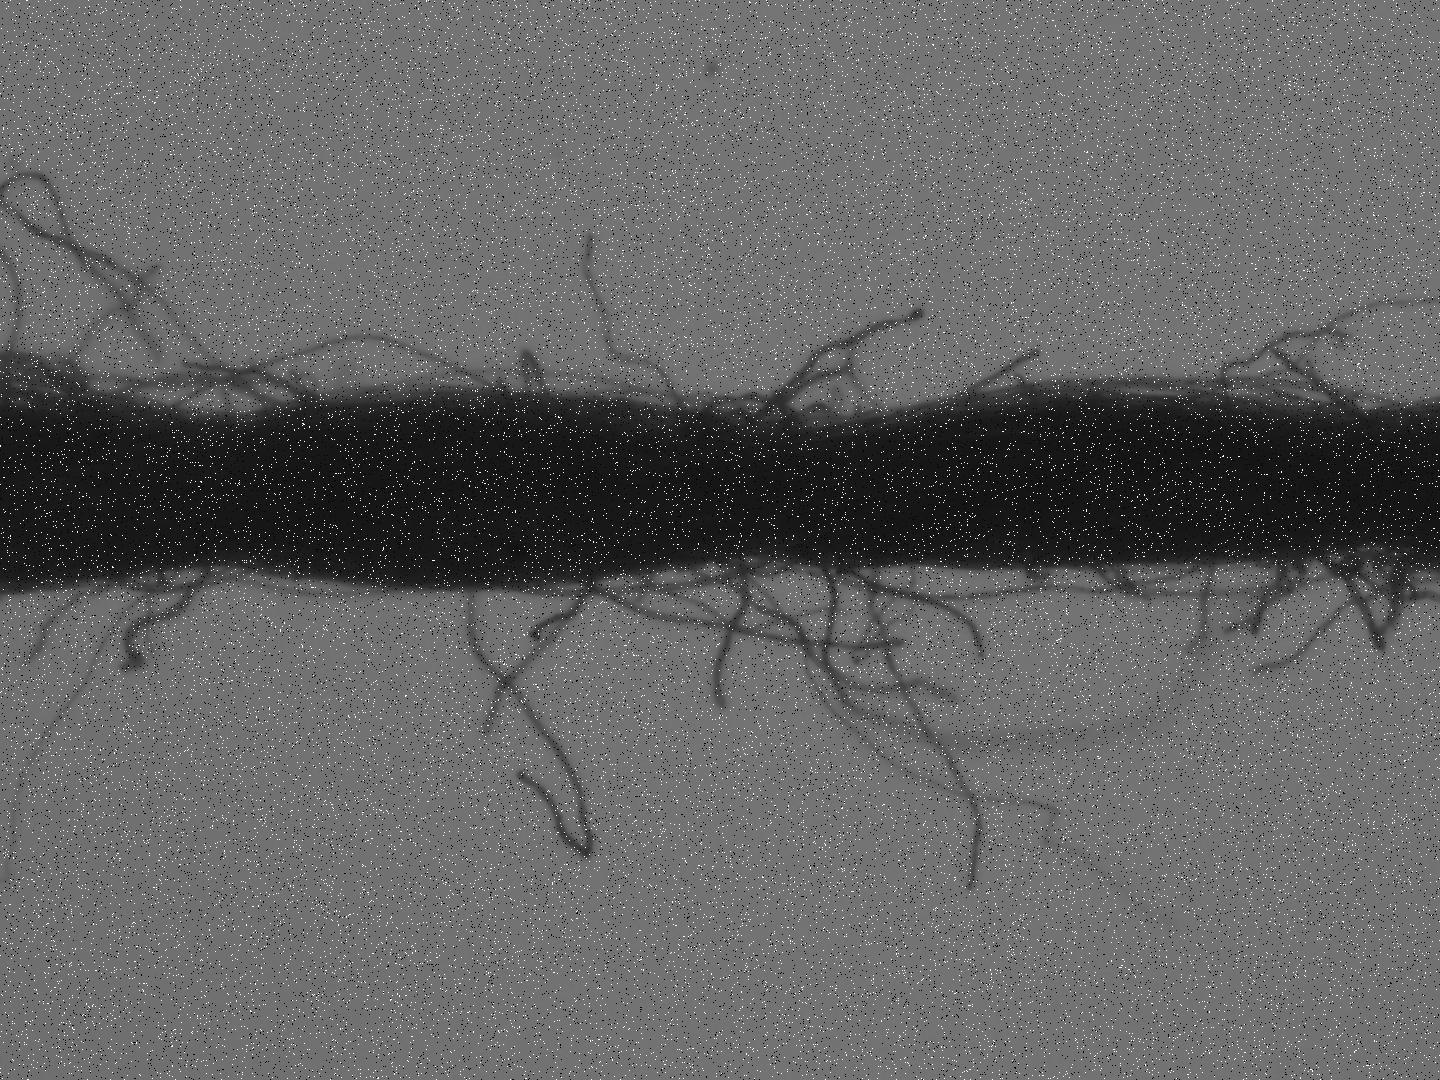loop_fiber: (1067, 371, 1403, 412), (1315, 548, 1429, 649), (513, 562, 770, 599), (171, 370, 310, 420), (126, 376, 287, 417), (1099, 560, 1204, 609), (111, 566, 257, 598), (697, 387, 796, 432), (722, 557, 807, 582), (519, 346, 558, 398)
protruding_fiber: (857, 565, 989, 895), (910, 337, 1053, 408), (706, 569, 748, 712)
